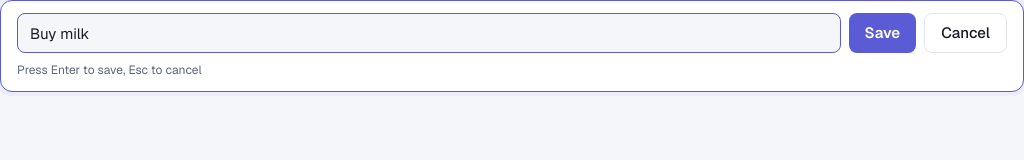
it: TodoItem › keeps the editor open and shows the server error
Earlier steps of the test are not shown.
Clear the field named "Edit task title" at [429, 33], box [17,13,841,53]
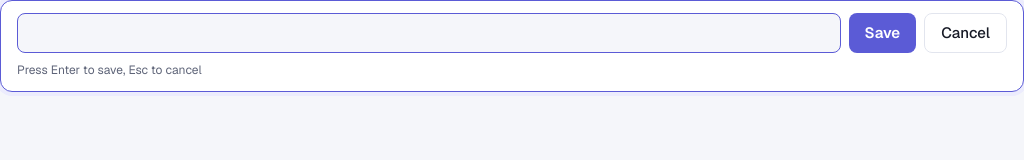
Click the button "Save" at [882, 33], box [849,13,916,53]
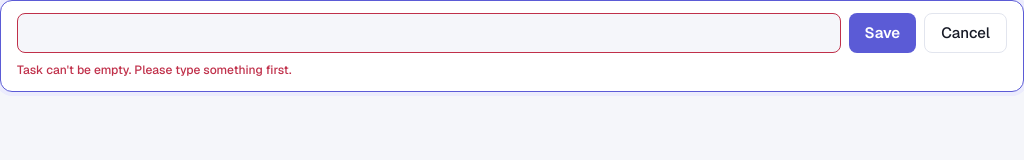
Check: the message shows "Task can't be empty", box [17,62,292,78]
